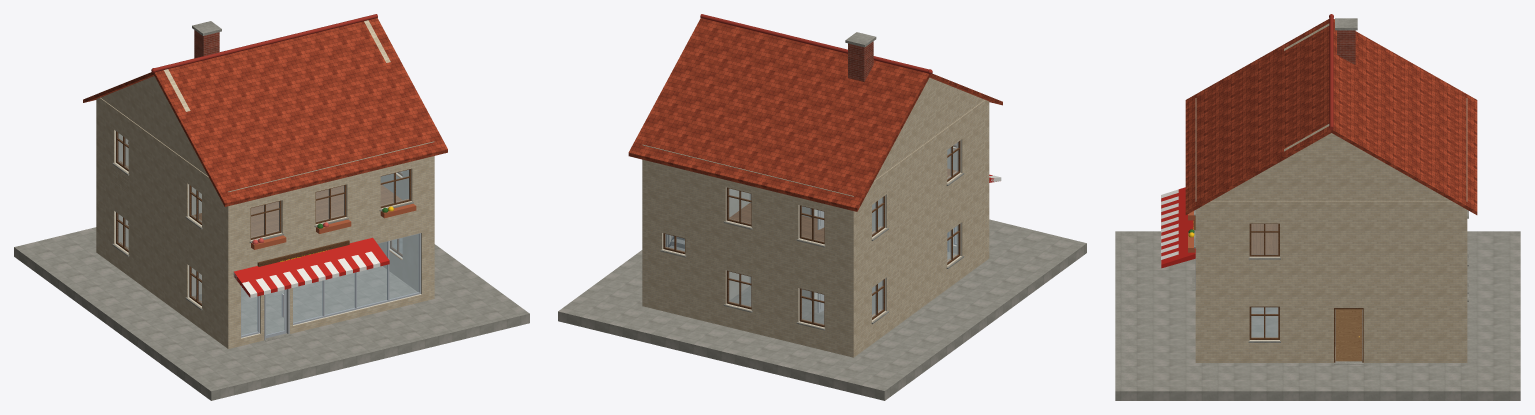
Rendered from b_bakery_corner.gltf.
3 renders of one model, left to right at view 1: azimuth 30°, elevation 25°; view 2: azimuth 150°, elevation 25°; view 3: azimuth 270°, elevation 25°, orthographic. The views are drawn at different scales.
Parts seen in each view (by area): view 1: S_bakery_corner, D_bakery_corner_F1_S2_Door0; view 2: S_bakery_corner; view 3: S_bakery_corner, D_bakery_corner_F1_E1_Door0.
Part boxes in pixels (x1=…): S_bakery_corner: x1=14, y1=14, x2=529, y2=400; D_bakery_corner_F1_S2_Door0: x1=265, y1=289, x2=286, y2=338; S_bakery_corner: x1=558, y1=14, x2=1086, y2=400; S_bakery_corner: x1=1115, y1=14, x2=1520, y2=400; D_bakery_corner_F1_E1_Door0: x1=1335, y1=309, x2=1361, y2=361.
Bounding box in the file's own units: 14 × 11.12 × 15.
26 materials, 13 textured.
